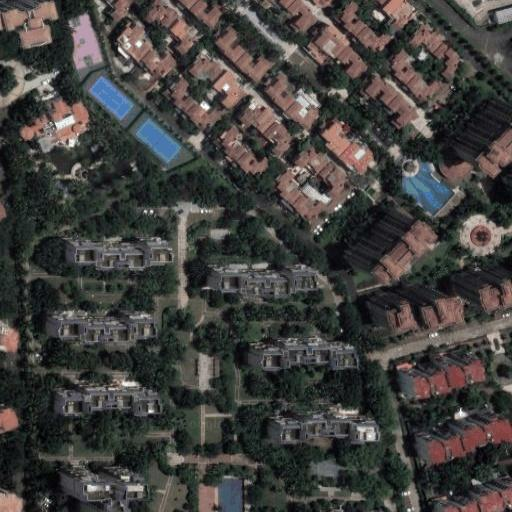building: (446, 96, 511, 166), (341, 204, 408, 270), (416, 411, 507, 458), (214, 27, 276, 85), (65, 464, 137, 507), (400, 354, 477, 393), (38, 99, 91, 149), (436, 478, 512, 512), (247, 331, 347, 356), (47, 376, 149, 400), (266, 405, 367, 428), (452, 260, 511, 299), (205, 255, 305, 278), (45, 303, 141, 326), (61, 230, 159, 251), (304, 23, 348, 67), (390, 279, 435, 315), (284, 90, 322, 130), (212, 68, 247, 111), (115, 24, 153, 62), (237, 97, 276, 134), (335, 43, 370, 82), (337, 140, 377, 174), (263, 71, 296, 112), (168, 18, 201, 58), (263, 118, 296, 158), (189, 48, 226, 83), (161, 78, 196, 114), (184, 101, 223, 132), (354, 25, 395, 54), (271, 167, 303, 204), (388, 94, 420, 131), (139, 49, 177, 80), (286, 0, 319, 35), (363, 75, 400, 106), (406, 73, 443, 104), (362, 287, 395, 321), (407, 23, 443, 54), (321, 120, 351, 157), (293, 145, 330, 174), (219, 125, 247, 163), (336, 2, 367, 36), (434, 43, 461, 82), (390, 48, 417, 84), (322, 183, 352, 214), (236, 151, 270, 177), (294, 194, 325, 222), (319, 160, 347, 188), (0, 487, 19, 512), (0, 401, 16, 430), (0, 320, 15, 349), (493, 7, 512, 27), (318, 507, 390, 512), (501, 170, 512, 198), (37, 135, 51, 153), (32, 116, 43, 132), (22, 127, 34, 139)
